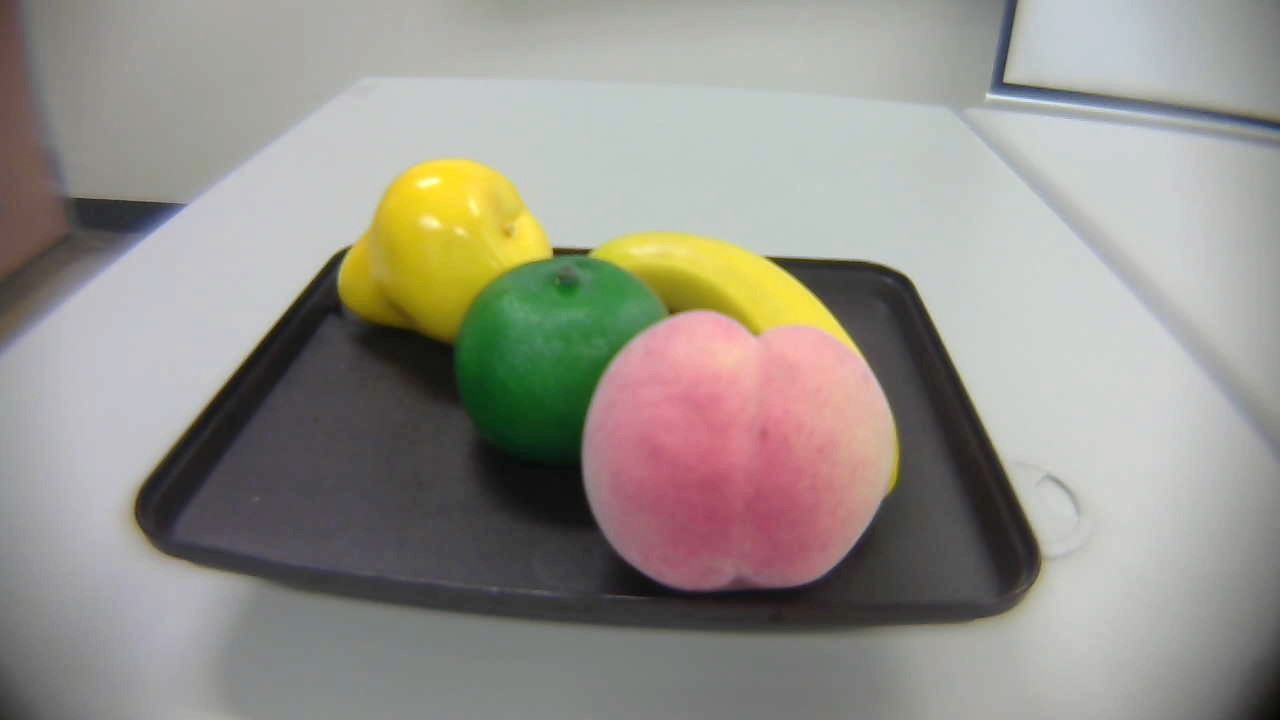banana: (583, 215, 913, 483)
green orange: (451, 252, 683, 471)
peach: (571, 310, 901, 590)
yellow pear: (320, 158, 557, 341)
